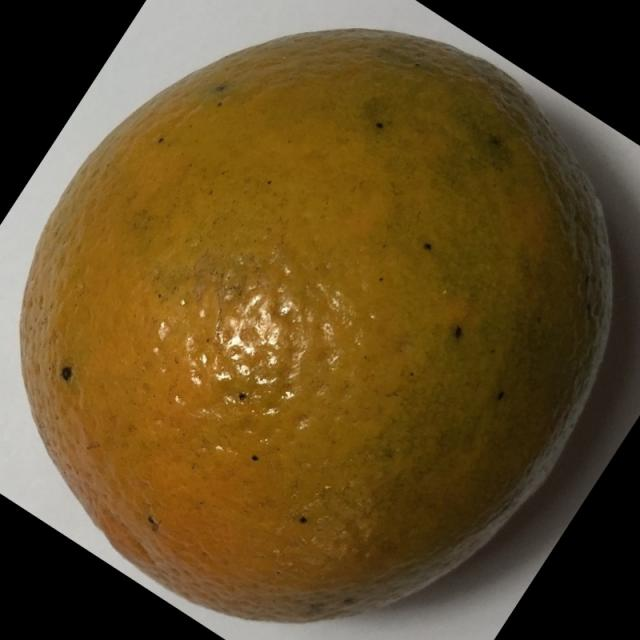canker: (22, 18, 623, 625)
